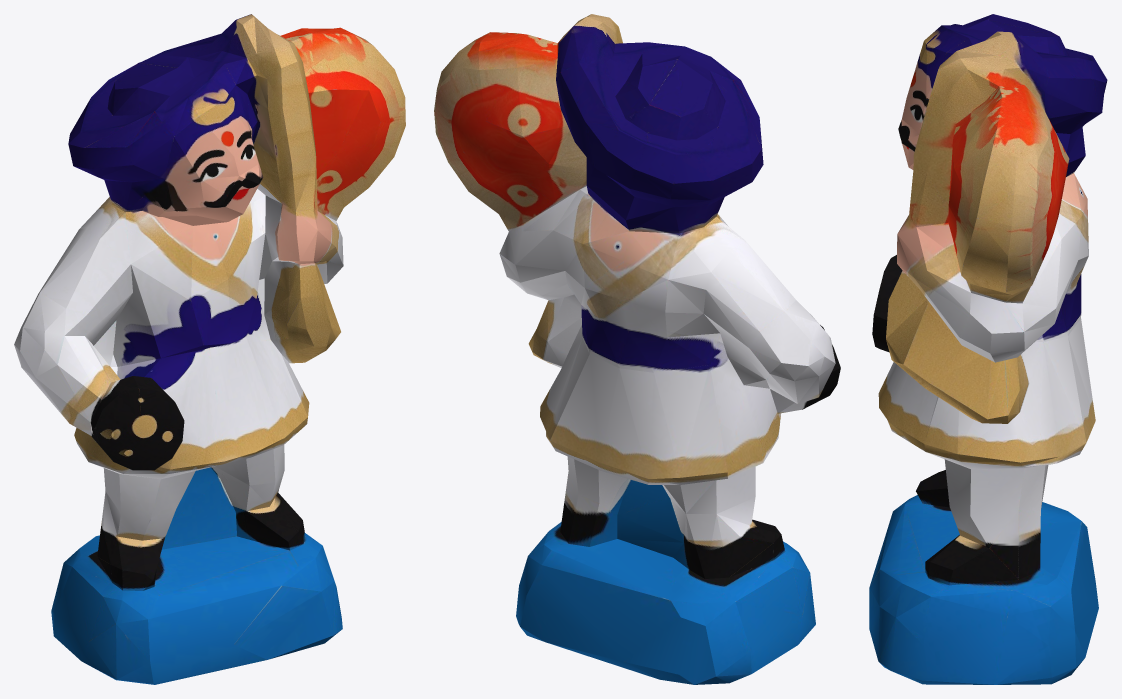
Rendered from Fan Blower.glb.
3 renders of one model, left to right at view 1: azimuth 30°, elevation 25°; view 2: azimuth 150°, elevation 25°; view 3: azimuth 270°, elevation 25°, orthographic. The views are drawn at different scales.
Visible parts, largest first — view 1: mesh_000; view 2: mesh_000; view 3: mesh_000.
Part boxes in pixels (x1=…): mesh_000: x1=14, y1=14, x2=405, y2=684; mesh_000: x1=434, y1=14, x2=840, y2=684; mesh_000: x1=869, y1=14, x2=1107, y2=684.
Bounding box in the file's own units: 0.6314 × 0.9531 × 0.3261.
Materials: 1 (1 with a texture image).
